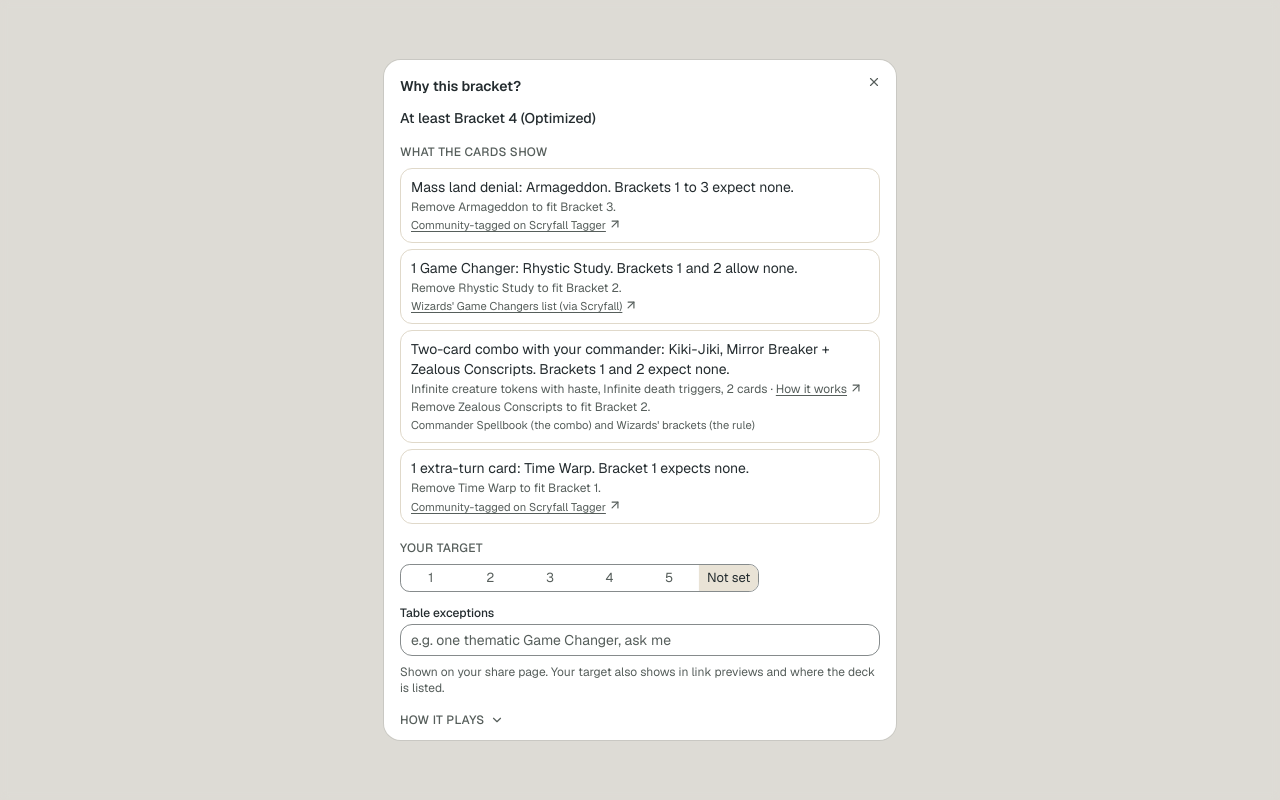
TARGET-CHANGES — a pick of Your target says what it did › the next pick replaces it (a fresh pop-in); closing the sheet forgets it
Click the button "3" at (550, 578), box x1=520 y1=565 x2=580 y2=591
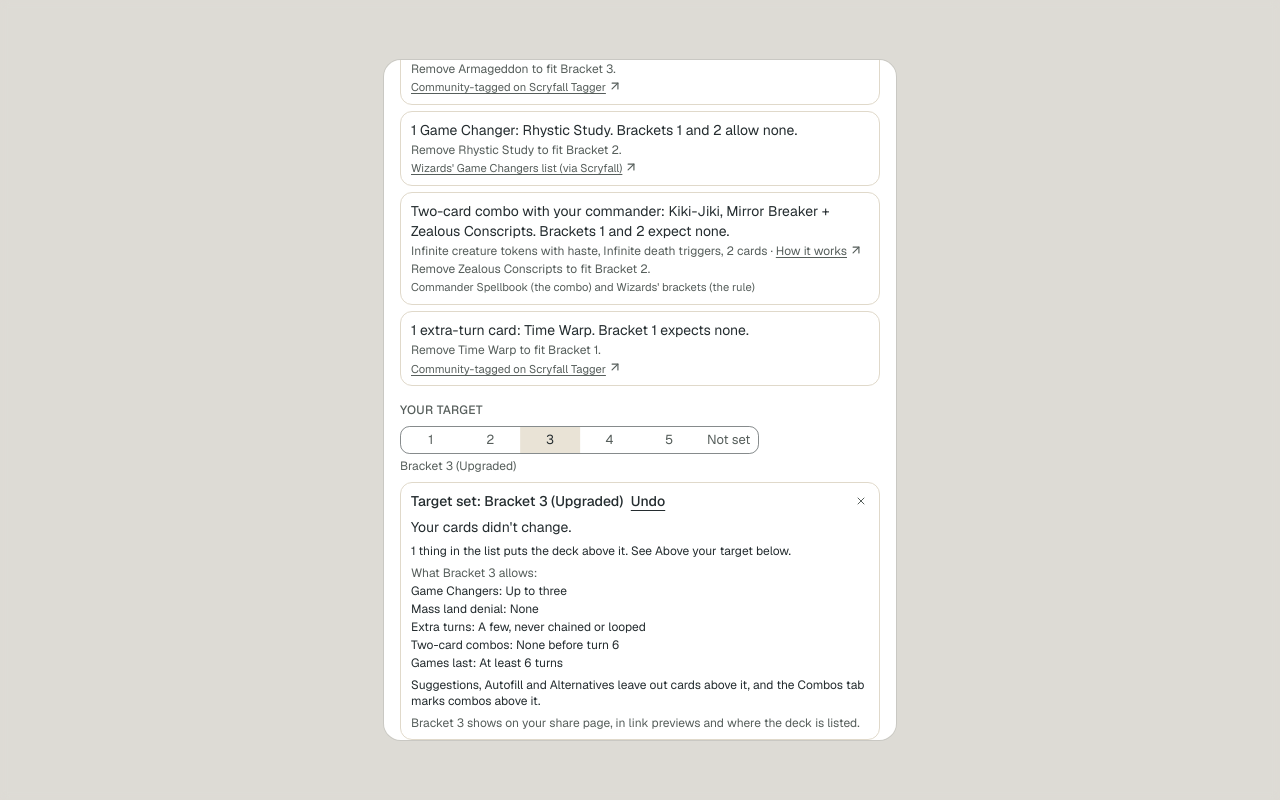
Click the button "4" at (610, 440), box x1=580 y1=427 x2=639 y2=453
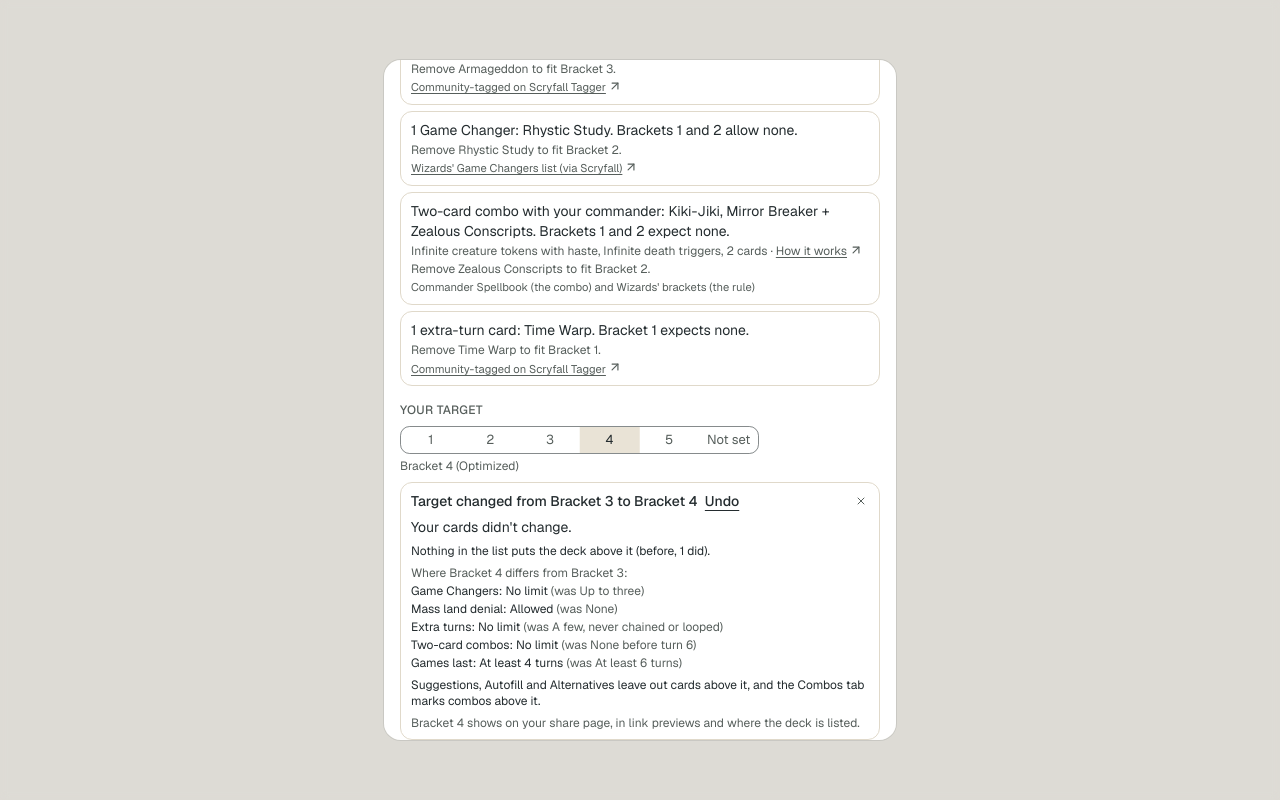
Click the button "5" at (669, 440), box x1=639 y1=427 x2=699 y2=453
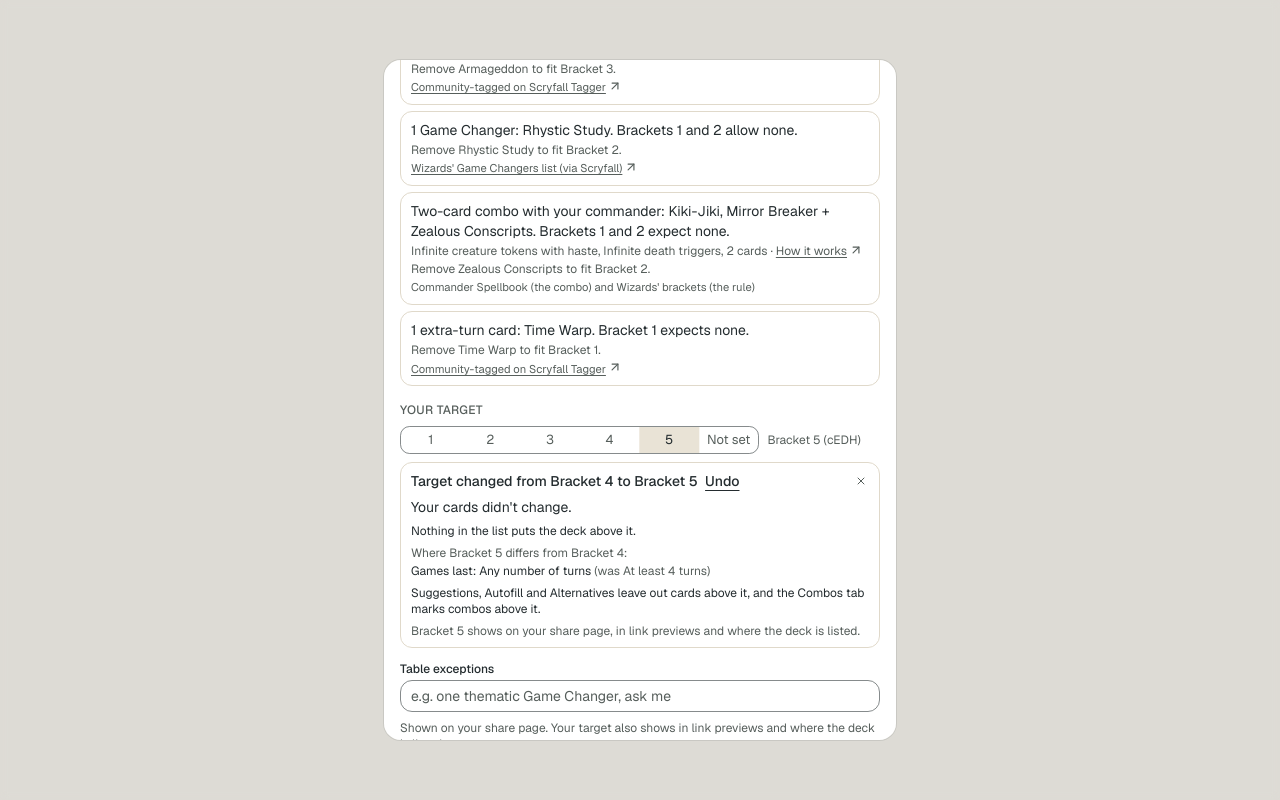
Now the element showing "Target changed from Bracket 4 to Bracket 5 Undo" is shown, box x1=411 y1=471 x2=869 y2=491
